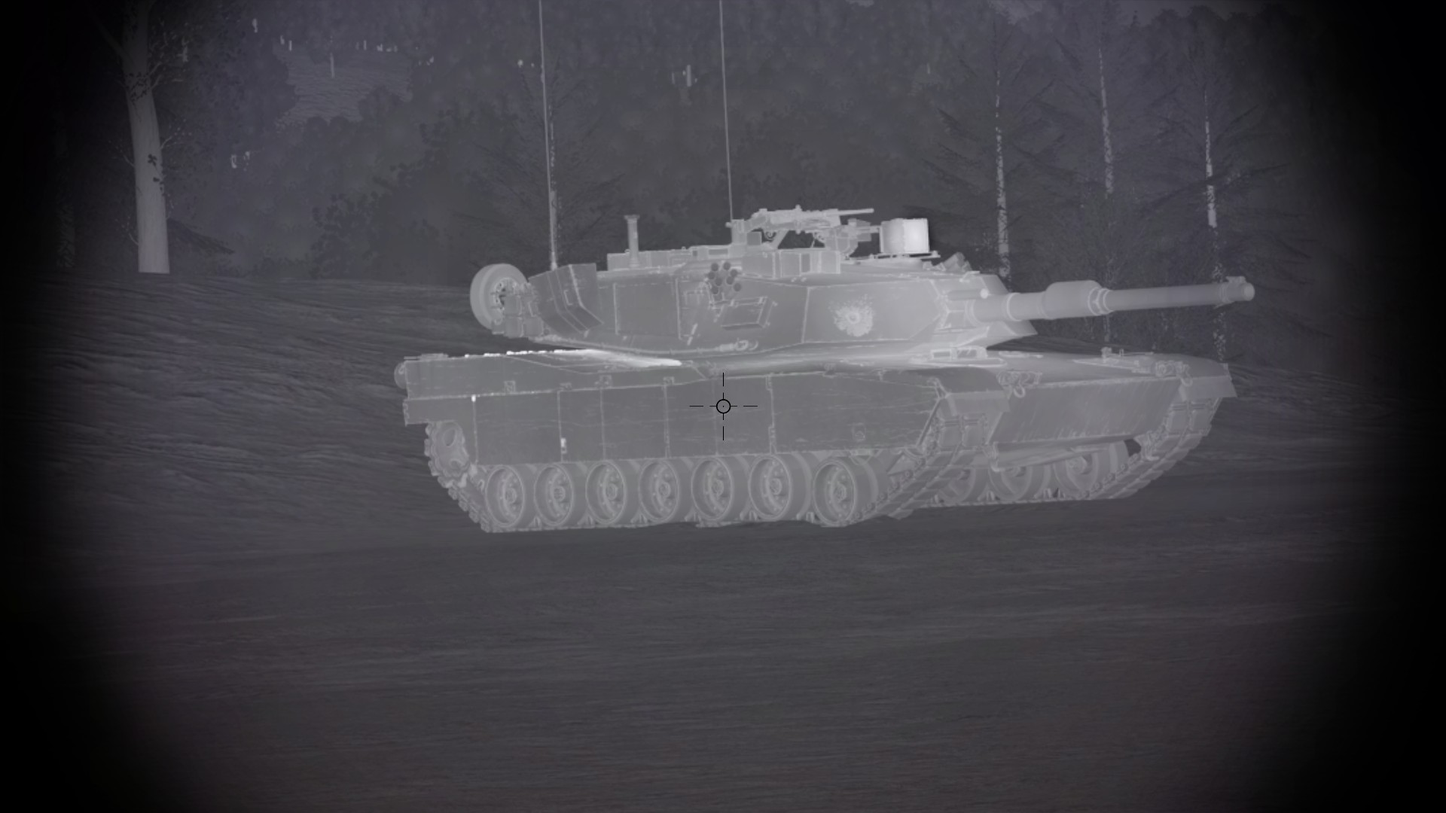abrams: (396, 205, 1257, 536)
